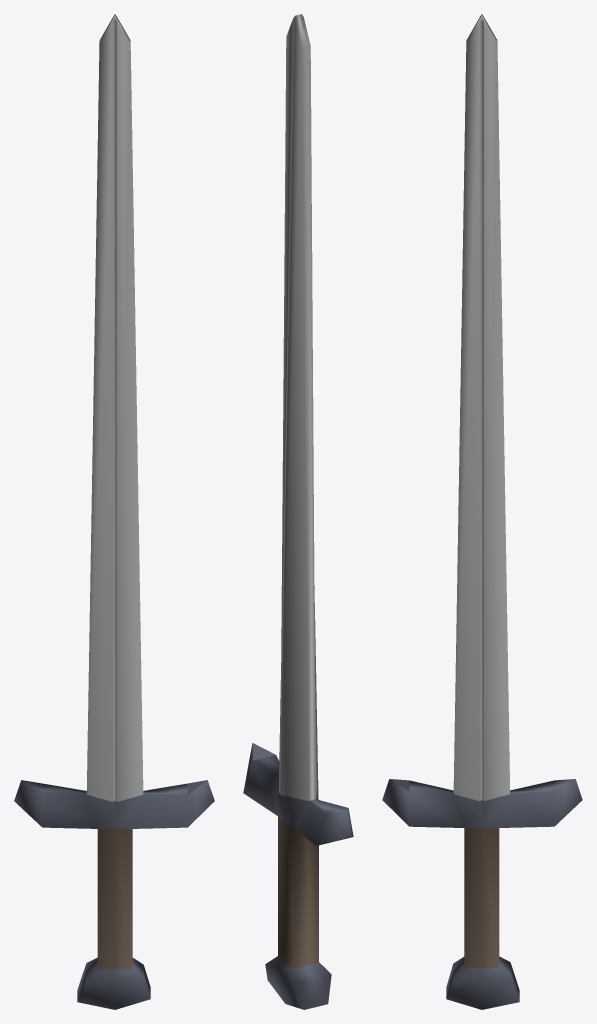
The model's file is EnemySword.fbx.
3 renders of one model, left to right at view 1: azimuth 90°, elevation 25°; view 2: azimuth 210°, elevation 25°; view 3: azimuth 270°, elevation 25°, orthographic.
Visible parts, largest first — view 1: EnemySword; view 2: EnemySword; view 3: EnemySword.
Part boxes in pixels (<box>): EnemySword: <box>14,14,214,1009</box>; EnemySword: <box>243,14,353,1009</box>; EnemySword: <box>382,14,582,1009</box>.
Size of the model in its own units: 13.71 by 341 by 62.71.
